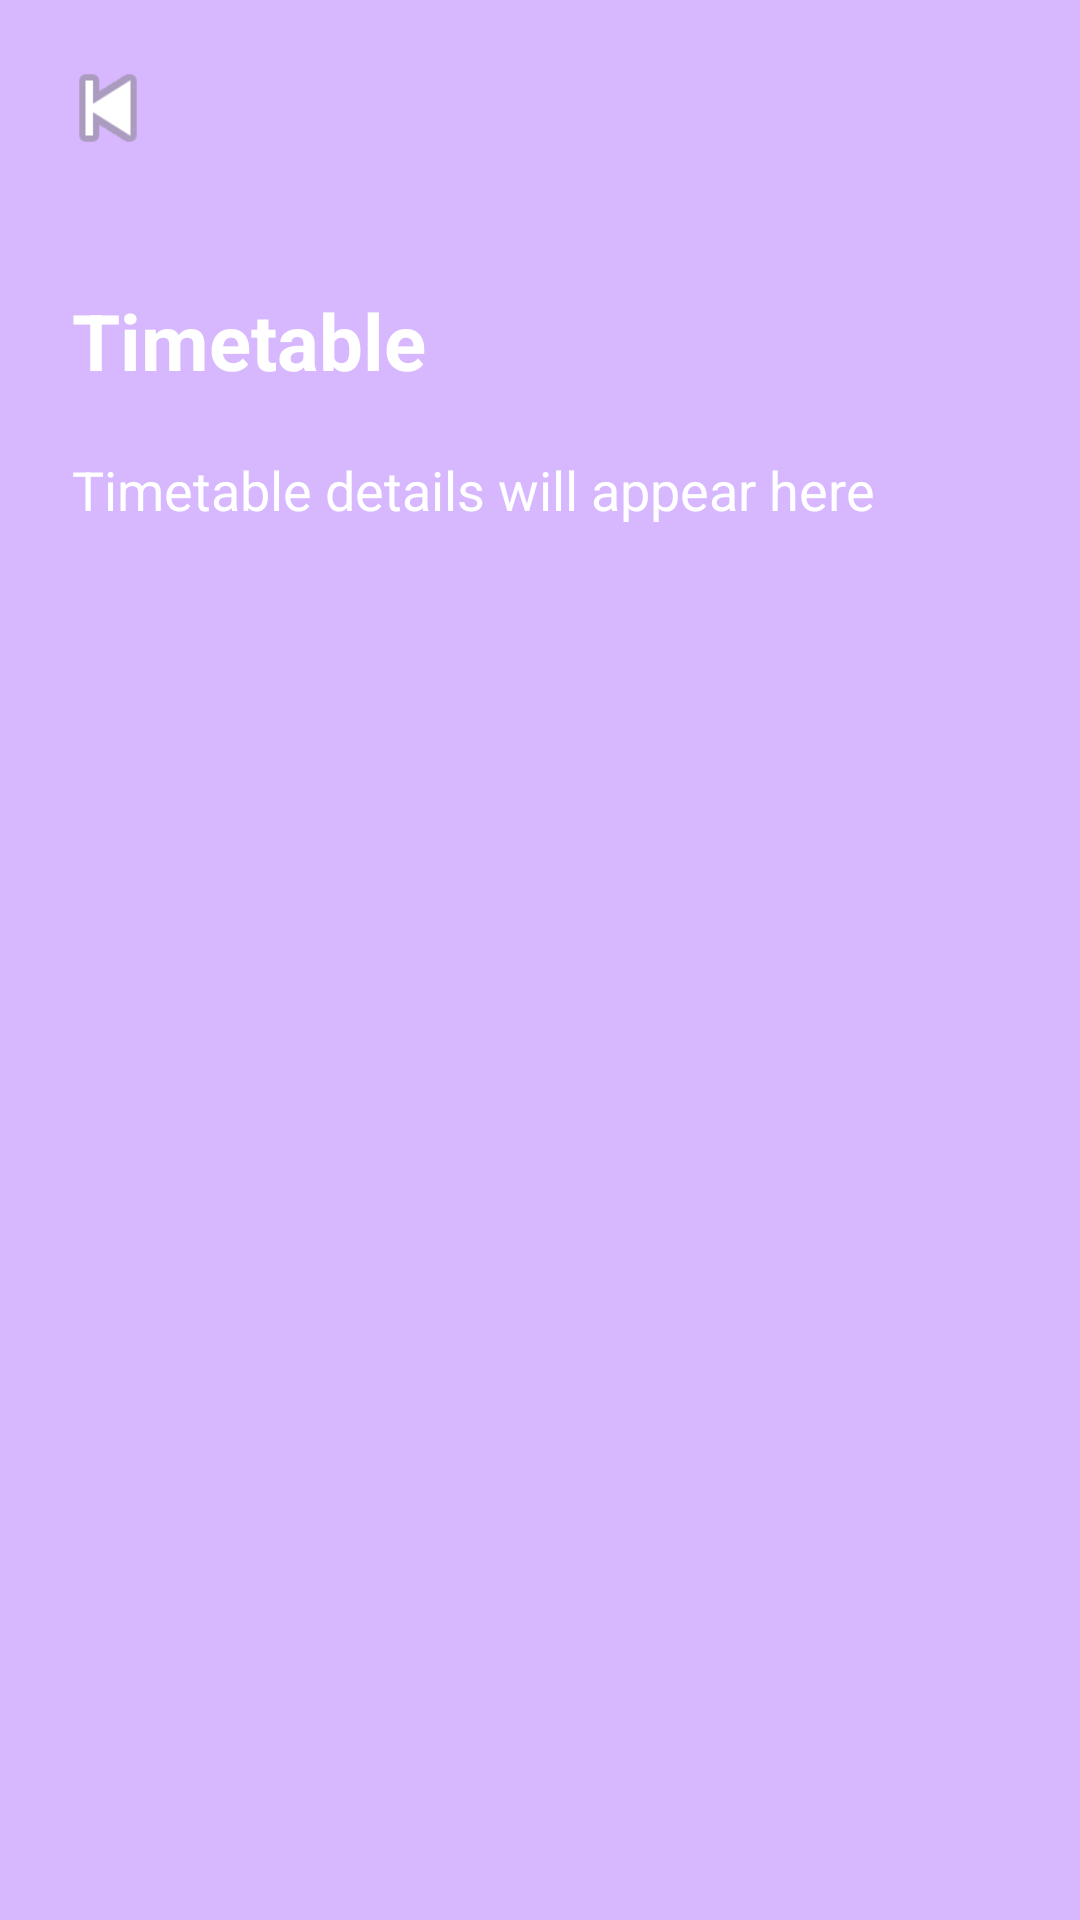

Where icons sit on this 1080px×1920px app screen, as [x1=x1, y1=y1, x2=x2, y2=y2]:
Back: [x1=79, y1=74, x2=137, y2=142]
